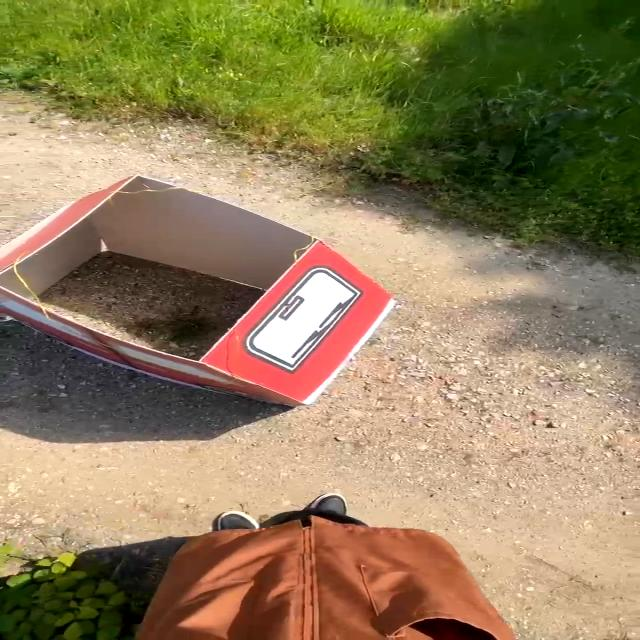red_car: (0, 162, 443, 430)
